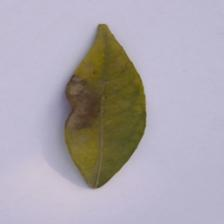black spot: (54, 69, 115, 132)
